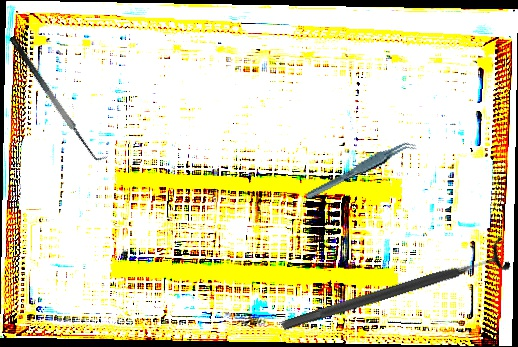Fixation Ring: (277, 235, 512, 343)
Spatula Surgical: (8, 28, 109, 168)
Tissue Forceps: (301, 139, 421, 200)
